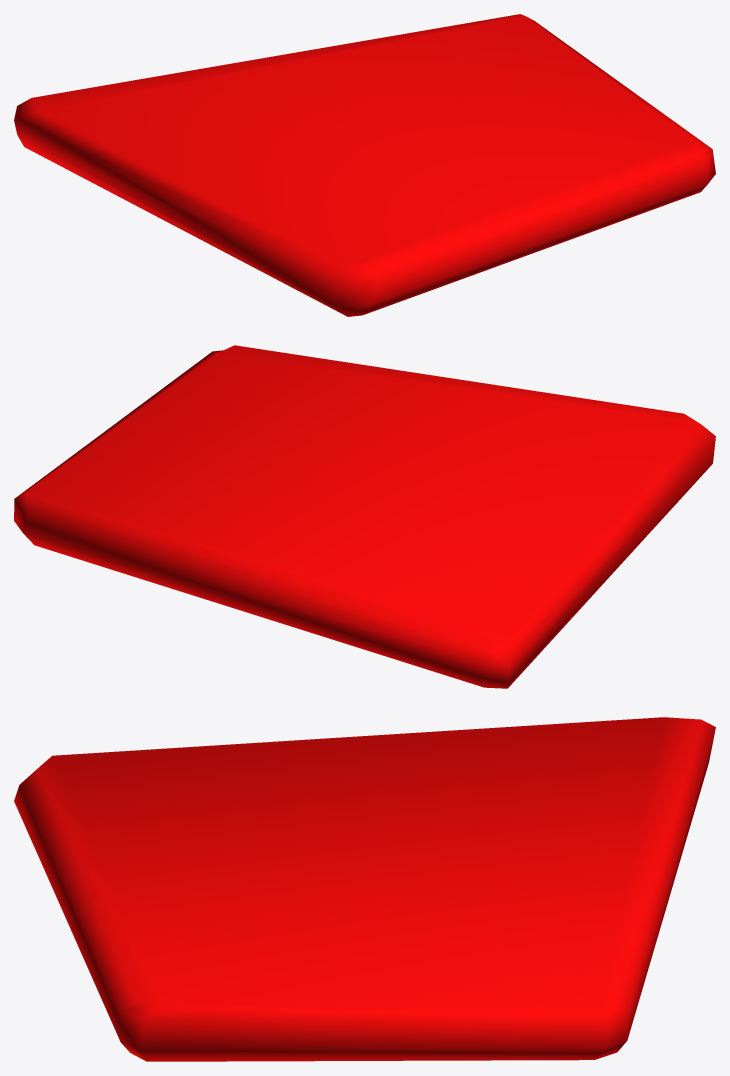
The model's file is Dalle2_LowPoly.fbx.
The picture shows the model from 3 angles, top to bottom: view 1: azimuth 30°, elevation 25°; view 2: azimuth 150°, elevation 25°; view 3: azimuth 270°, elevation 25°; orthographic projection. The views are drawn at different scales.
Visible parts, largest first — view 1: BSurfaceMesh; view 2: BSurfaceMesh; view 3: BSurfaceMesh.
Boxes of the visible parts, x1,y1,x2,y2 form: BSurfaceMesh: [14, 14, 715, 316]; BSurfaceMesh: [14, 345, 715, 688]; BSurfaceMesh: [14, 717, 715, 1061].
Bounding box in the file's own units: 194 × 16.57 × 189.
